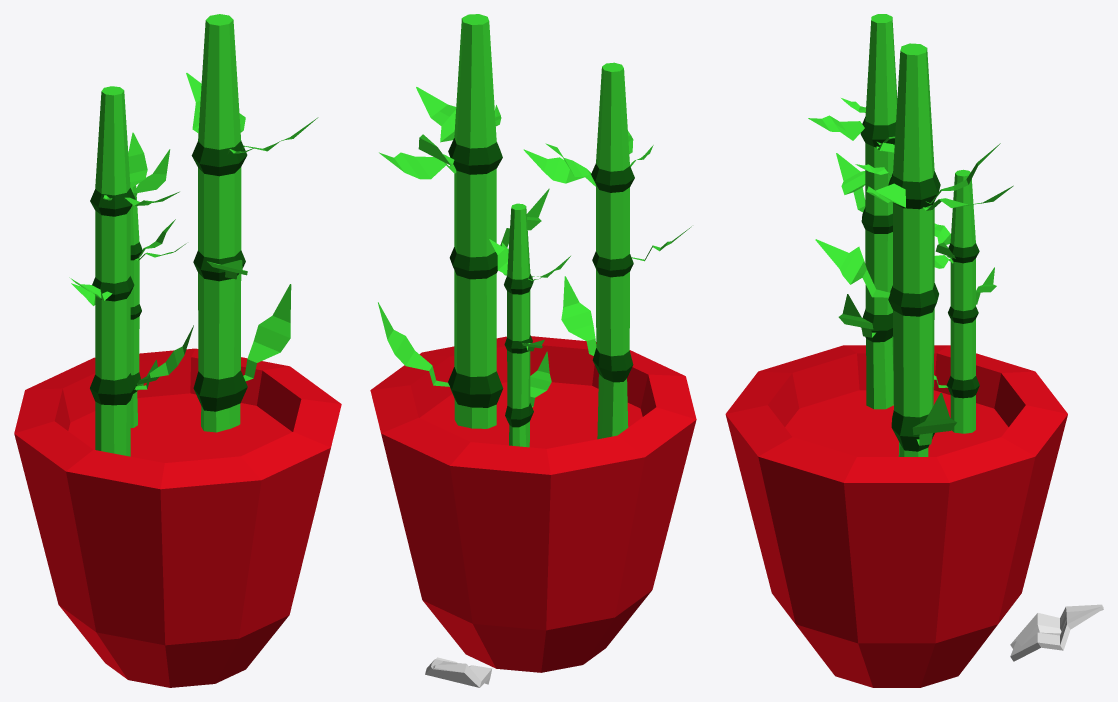
The model's file is polygon Blumentopf fertig.fbx.
3 renders of one model, left to right at view 1: azimuth 30°, elevation 25°; view 2: azimuth 150°, elevation 25°; view 3: azimuth 270°, elevation 25°, orthographic. The views are drawn at different scales.
Parts seen in each view (by area): view 1: Circle.001, Cylinder; view 2: Circle.001, Cylinder, Plane; view 3: Circle.001, Cylinder, Plane.
Part boxes in pixels (x1=…): Circle.001: x1=14, y1=348, x2=341, y2=687; Cylinder: x1=69, y1=14, x2=318, y2=456; Circle.001: x1=370, y1=336, x2=696, y2=672; Cylinder: x1=378, y1=14, x2=691, y2=447; Plane: x1=425, y1=657, x2=492, y2=687; Circle.001: x1=725, y1=345, x2=1067, y2=687; Cylinder: x1=808, y1=14, x2=1013, y2=456; Plane: x1=1010, y1=604, x2=1103, y2=661.
Bounding box in the file's own units: 428 × 917 × 496.
